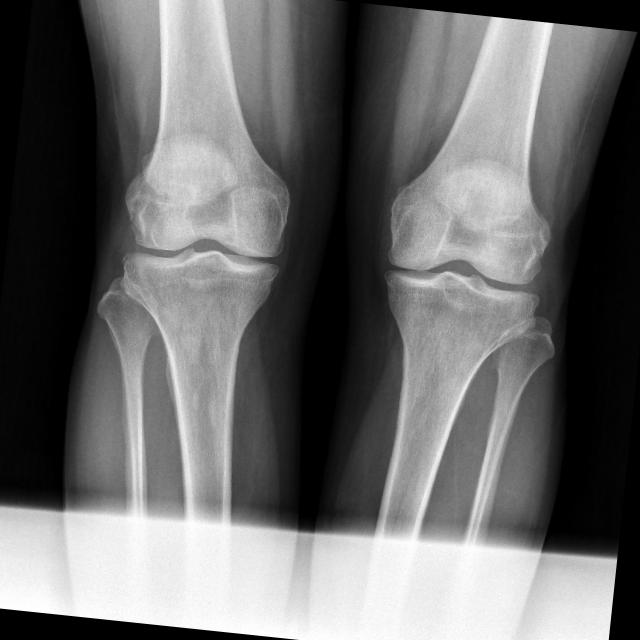Knee: (376, 195, 550, 342), (112, 180, 290, 320)
